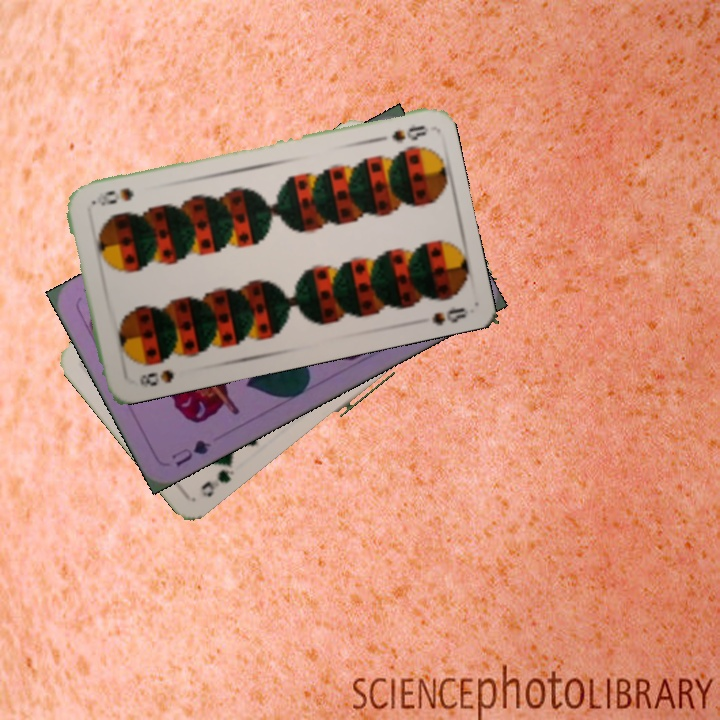G9: (197, 457, 238, 500)
GU: (167, 435, 214, 469)
S8: (371, 121, 430, 145), (135, 365, 177, 390)
